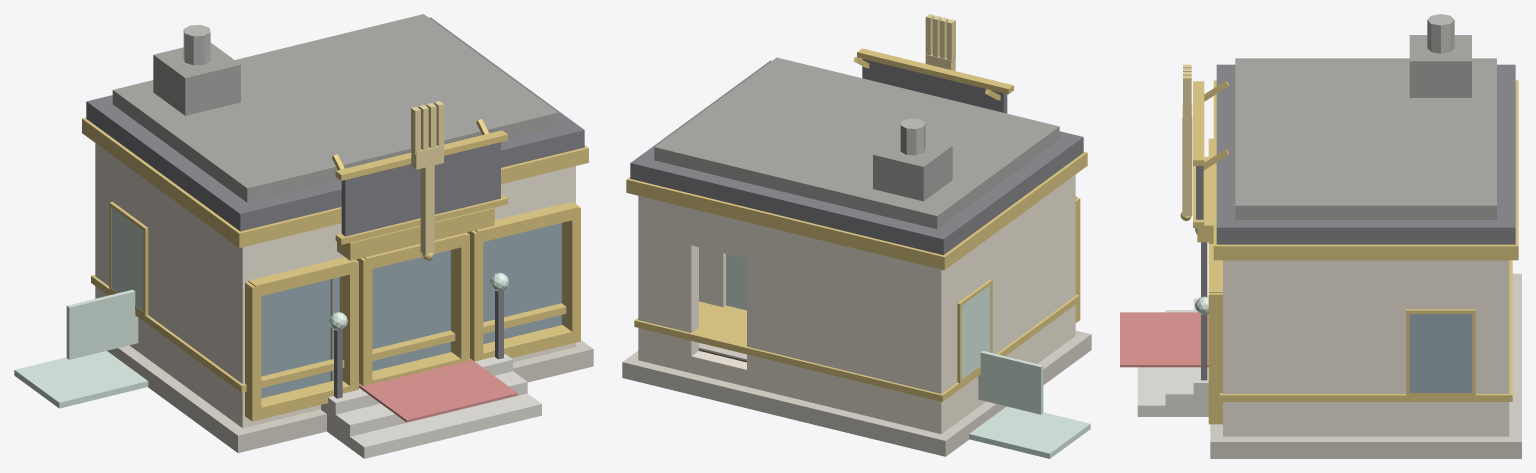
Rendered from restaurace_zlata_vidlicka.glb.
The picture shows the model from 3 angles, left to right: view 1: azimuth 30°, elevation 25°; view 2: azimuth 150°, elevation 25°; view 3: azimuth 270°, elevation 25°; orthographic projection. The views are drawn at different scales.
Parts seen in each view (by area): view 1: RestauraceZlataVidlicka_grey4, RestauraceZlataVidlicka_gold2, RestauraceZlataVidlicka_cream, RestauraceZlataVidlicka_glassdark, RestauraceZlataVidlicka_dark, RestauraceZlataVidlicka_mint, RestauraceZlataVidlicka_stone, RestauraceZlataVidlicka_stone2, RestauraceZlataVidlicka_red2, RestauraceZlataVidlicka_gold, RestauraceZlataVidlicka_grey3; view 2: RestauraceZlataVidlicka_cream, RestauraceZlataVidlicka_grey4, RestauraceZlataVidlicka_gold2, RestauraceZlataVidlicka_dark, RestauraceZlataVidlicka_mint, RestauraceZlataVidlicka_stone2, RestauraceZlataVidlicka_gold, RestauraceZlataVidlicka_grey3; view 3: RestauraceZlataVidlicka_grey4, RestauraceZlataVidlicka_cream, RestauraceZlataVidlicka_gold2, RestauraceZlataVidlicka_dark, RestauraceZlataVidlicka_stone2, RestauraceZlataVidlicka_glassdark, RestauraceZlataVidlicka_red2, RestauraceZlataVidlicka_stone, RestauraceZlataVidlicka_gold, RestauraceZlataVidlicka_grey3.
Part boxes in pixels (x1,y1,x2,y2): RestauraceZlataVidlicka_grey4: (112, 14, 558, 202); RestauraceZlataVidlicka_gold2: (82, 118, 588, 421); RestauraceZlataVidlicka_cream: (95, 143, 575, 428); RestauraceZlataVidlicka_glassdark: (261, 223, 561, 398); RestauraceZlataVidlicka_dark: (86, 17, 584, 398); RestauraceZlataVidlicka_mint: (14, 208, 508, 408); RestauraceZlataVidlicka_stone: (321, 354, 541, 458); RestauraceZlataVidlicka_stone2: (107, 340, 593, 452); RestauraceZlataVidlicka_red2: (359, 358, 517, 422); RestauraceZlataVidlicka_gold: (411, 101, 444, 255); RestauraceZlataVidlicka_grey3: (183, 25, 210, 65); RestauraceZlataVidlicka_cream: (638, 175, 1075, 434); RestauraceZlataVidlicka_grey4: (654, 57, 1059, 229); RestauraceZlataVidlicka_gold2: (626, 48, 1087, 401); RestauraceZlataVidlicka_dark: (630, 59, 1083, 255); RestauraceZlataVidlicka_mint: (726, 254, 1090, 458); RestauraceZlataVidlicka_stone2: (622, 330, 1091, 456); RestauraceZlataVidlicka_gold: (925, 14, 955, 70); RestauraceZlataVidlicka_grey3: (900, 118, 925, 155); RestauraceZlataVidlicka_grey4: (1235, 35, 1496, 219); RestauraceZlataVidlicka_cream: (1223, 260, 1509, 436); RestauraceZlataVidlicka_gold2: (1180, 80, 1518, 424); RestauraceZlataVidlicka_dark: (1196, 64, 1515, 380); RestauraceZlataVidlicka_stone2: (1210, 273, 1521, 458); RestauraceZlataVidlicka_glassdark: (1409, 314, 1471, 392); RestauraceZlataVidlicka_red2: (1120, 312, 1208, 367); RestauraceZlataVidlicka_stone: (1137, 298, 1208, 416); RestauraceZlataVidlicka_gold: (1182, 64, 1192, 215); RestauraceZlataVidlicka_grey3: (1427, 14, 1454, 53).
Bounding box in the file's own units: 8 × 5.45 × 6.45.
